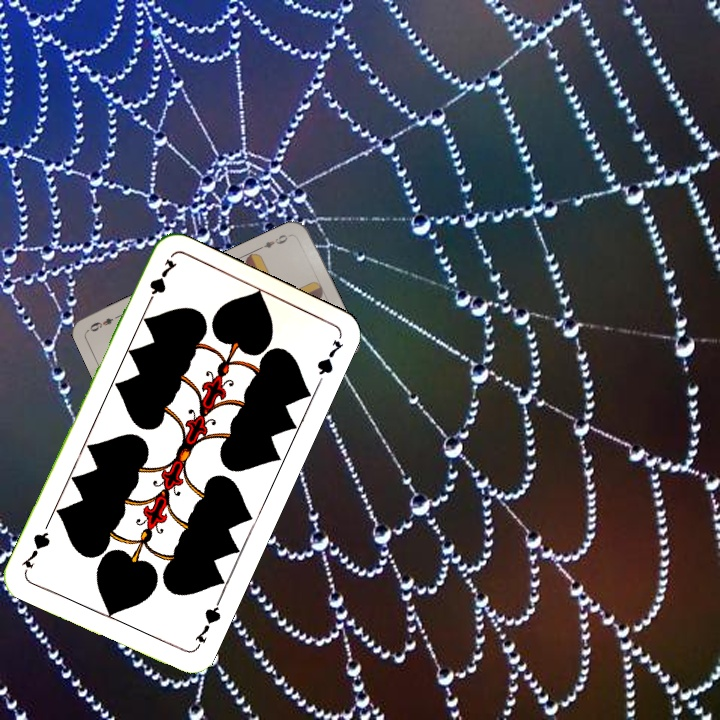E9: (255, 230, 294, 252)
G7: (141, 255, 179, 310), (190, 596, 224, 652)
